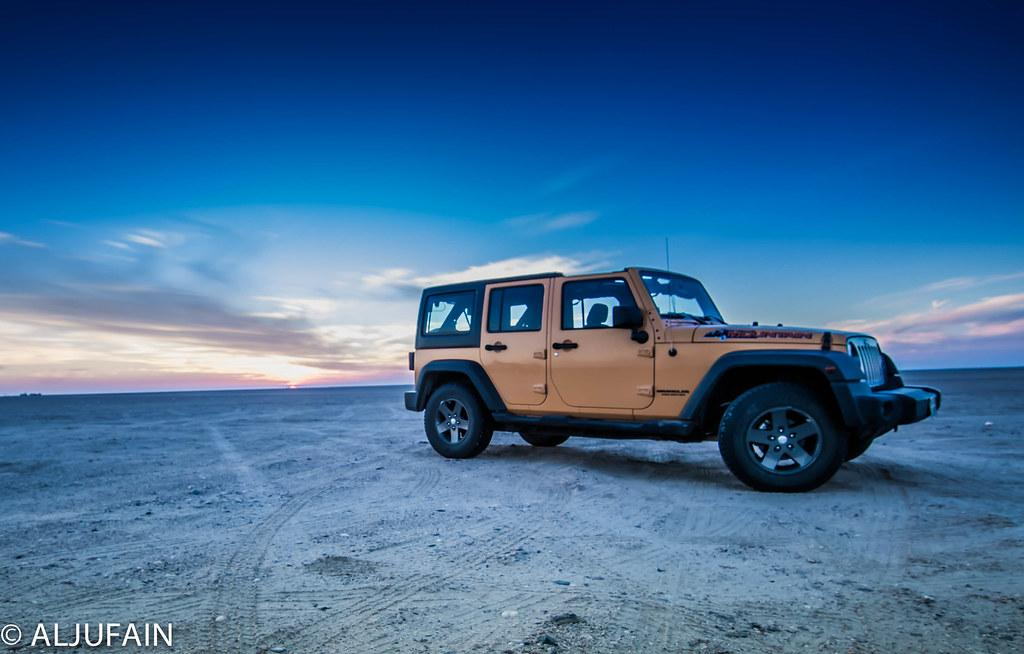car: (404, 266, 942, 493)
